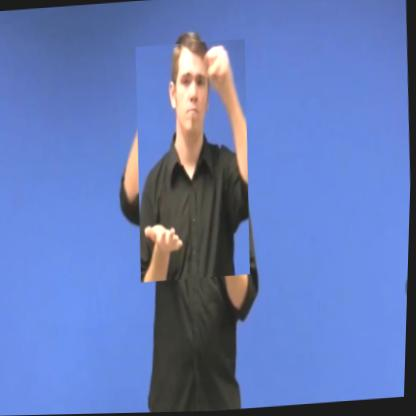Expensive: (130, 40, 256, 283)
